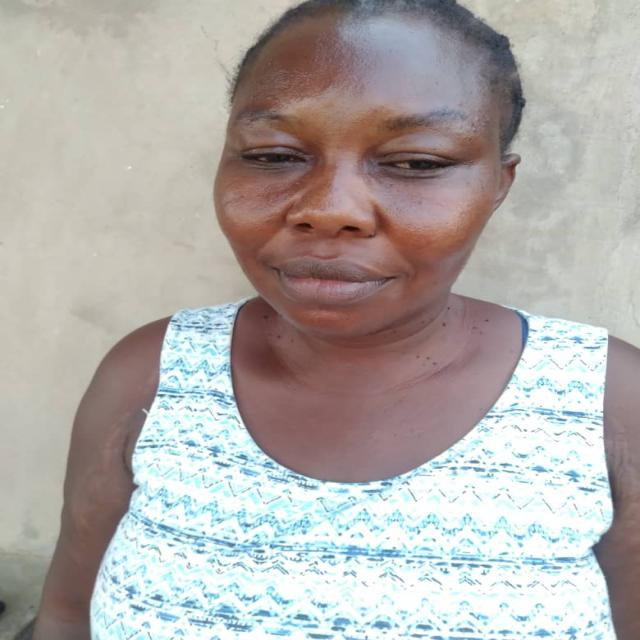sad: (220, 0, 529, 340)
